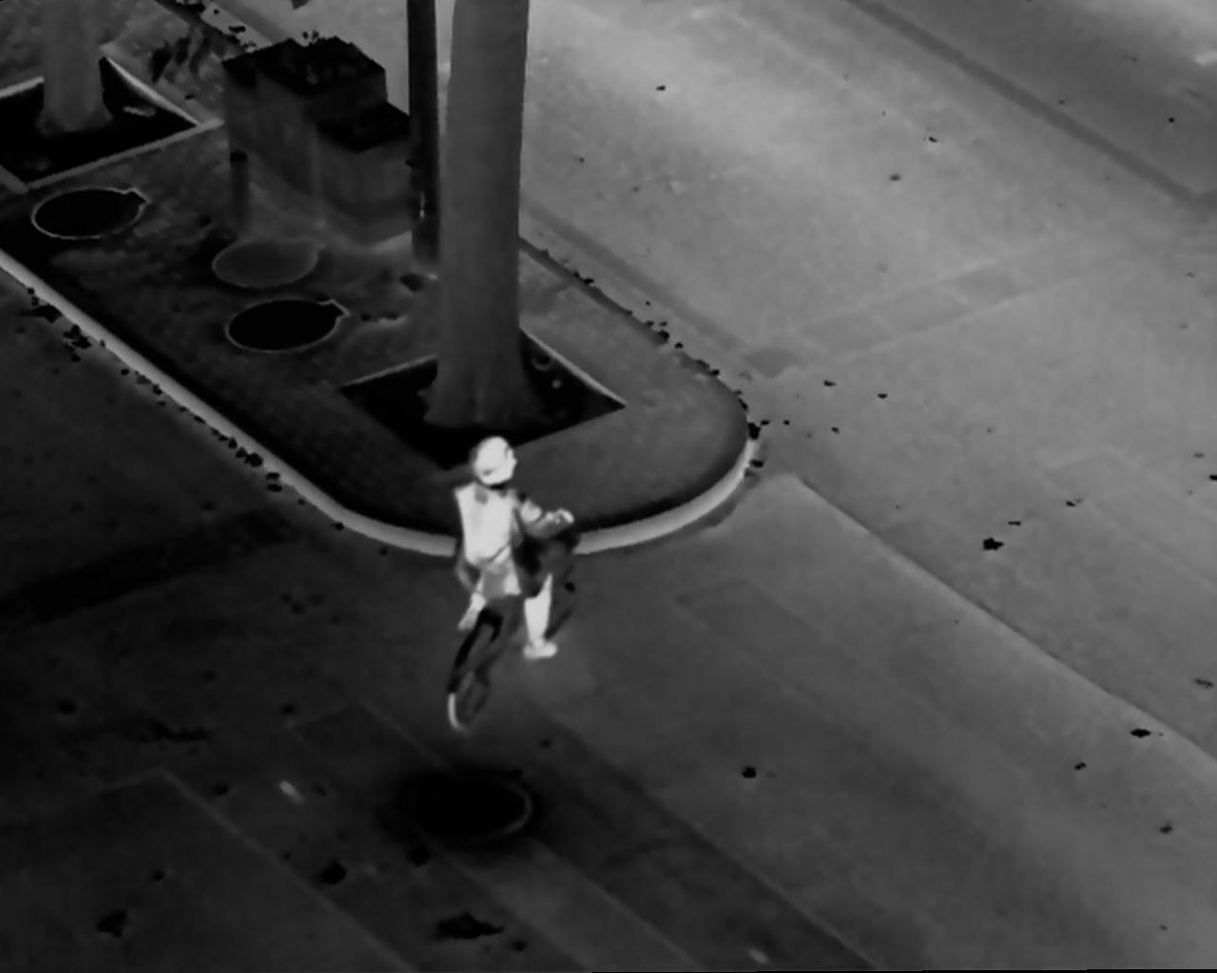person: (449, 434, 569, 677)
